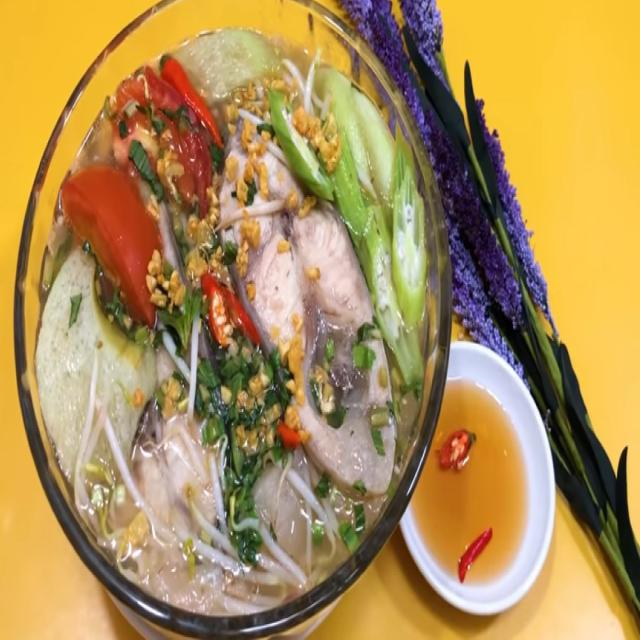canh chua: (26, 29, 449, 633)
nuoc mam: (412, 384, 526, 583)
